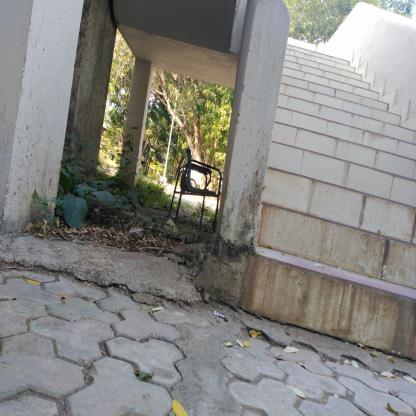stairs: (288, 56, 351, 363)
